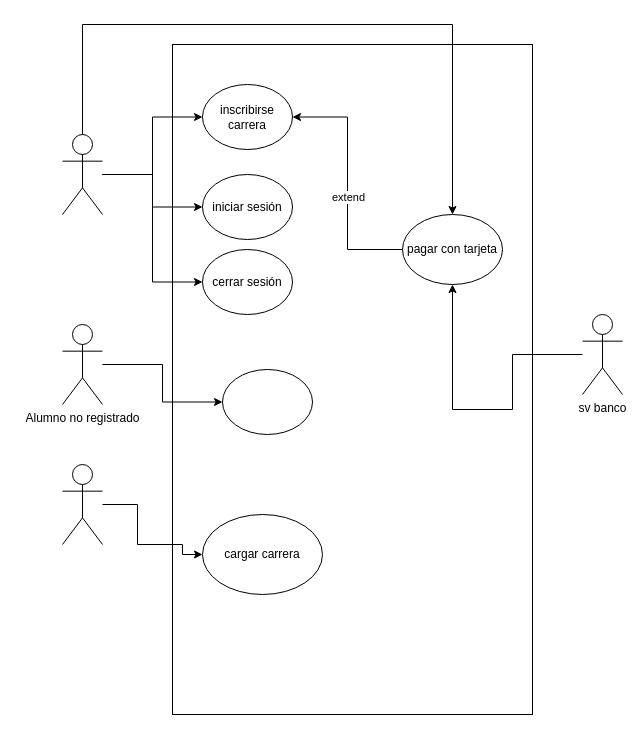
Some shapes in this 644 by 732 pixel diagram are drawn without their labels. Here are the shapes that lost their labels. From the top down, the centre of each, then its label:
At (82,174): "Alumno registrado".
At (267,401): "registrarse".
At (82,504): "Empleado administrativo".
